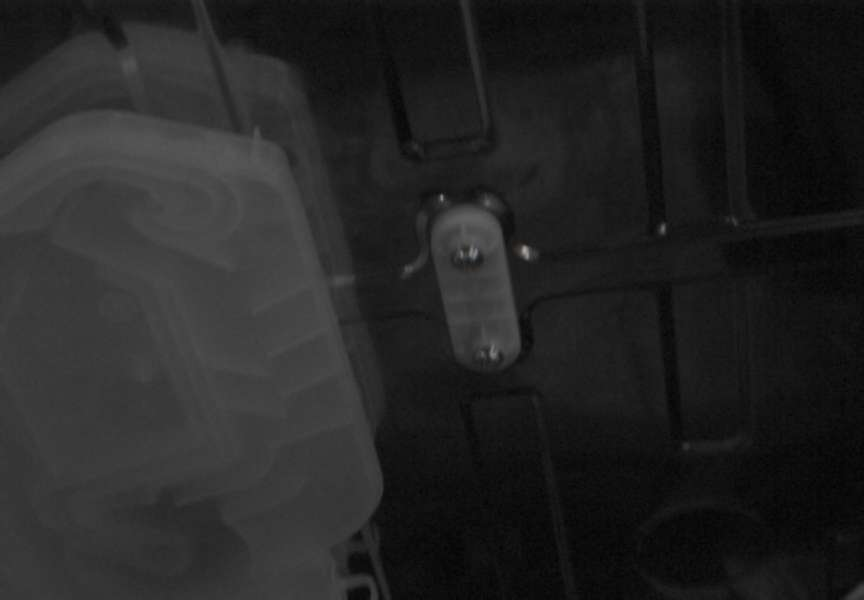screw: (473, 343, 504, 370), (451, 244, 484, 269)
